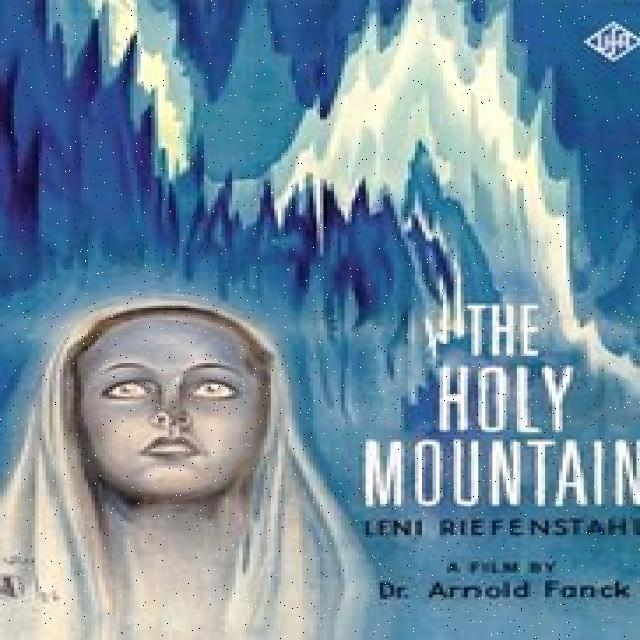movie-judul: (348, 298, 640, 508)
picture: (0, 6, 640, 640)
